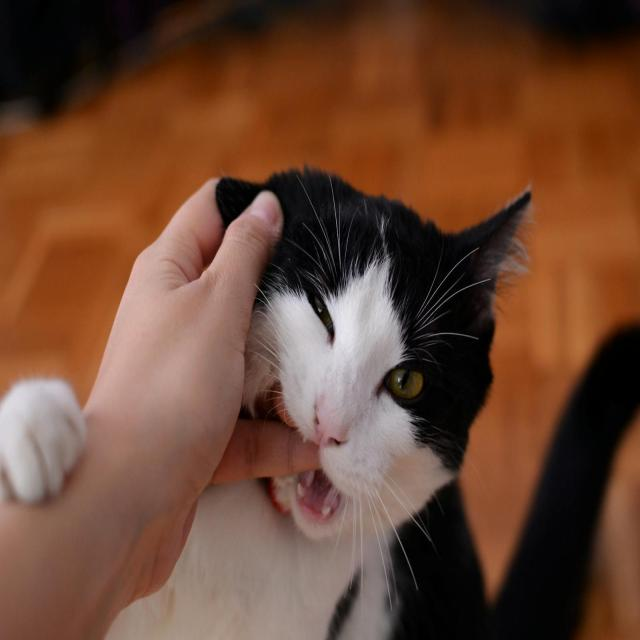Cat: (1, 162, 534, 638)
